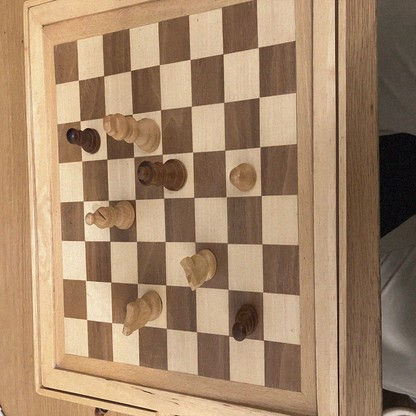bishop_white: (86, 202, 134, 229)
king_white: (104, 114, 161, 151)
knight_white: (123, 292, 162, 334), (181, 250, 217, 291)
pawn_black: (66, 128, 101, 154), (233, 305, 258, 340)
pawn_white: (231, 165, 257, 191)
queen_black: (139, 159, 187, 189)
